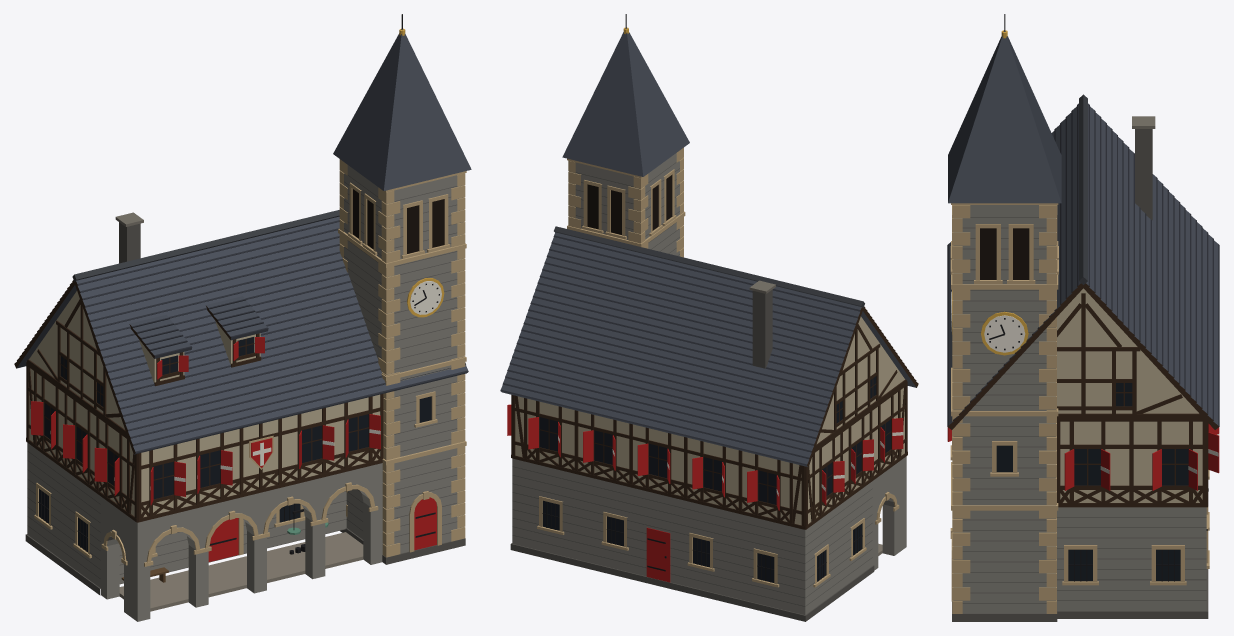
The model's file is rathaus.glb.
The picture shows the model from 3 angles, left to right: view 1: azimuth 30°, elevation 25°; view 2: azimuth 150°, elevation 25°; view 3: azimuth 270°, elevation 25°; orthographic projection. The views are drawn at different scales.
Parts seen in each view (by area): view 1: Haus; view 2: Haus; view 3: Haus.
Boxes of the visible parts, x1,y1,x2,y2 form: Haus: [14, 14, 471, 621]; Haus: [500, 14, 918, 621]; Haus: [947, 14, 1219, 621].
Size of the model in its own units: 15.96 by 23.6 by 9.94.
